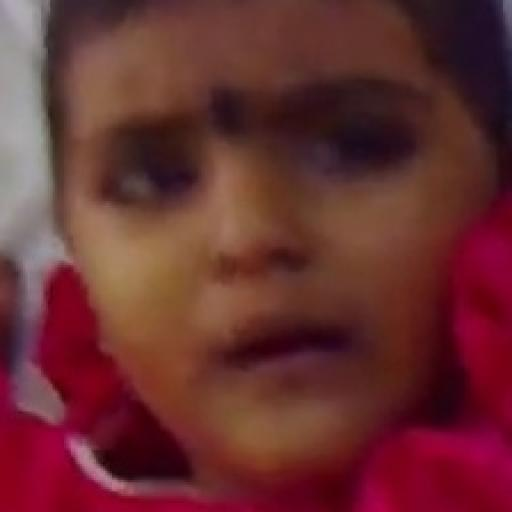Autism: (51, 11, 463, 512)
